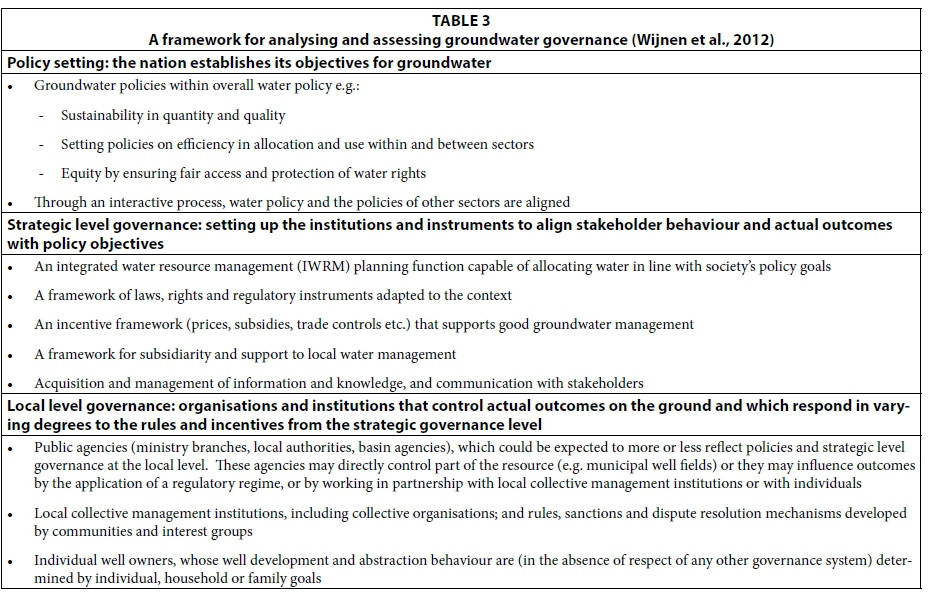fracking table: (3, 399, 922, 588), (3, 216, 923, 395), (3, 52, 918, 210)
